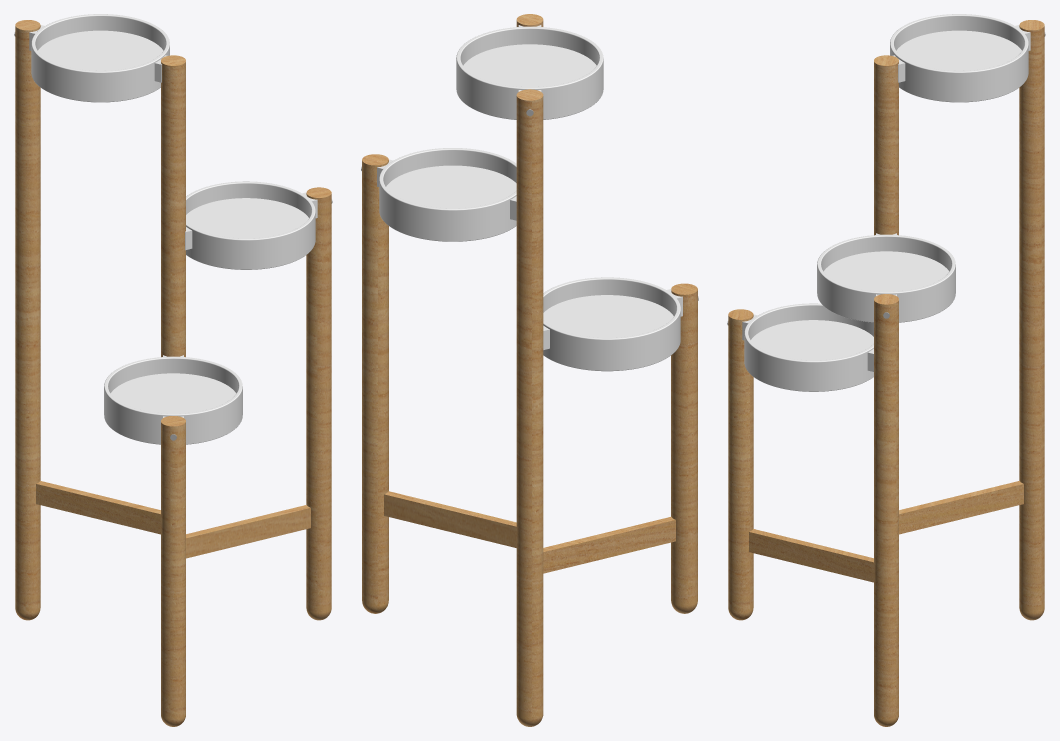
File: SATSUMAS_Planter_H_78CM.obj
3 renders of one model, left to right at view 1: azimuth 30°, elevation 25°; view 2: azimuth 150°, elevation 25°; view 3: azimuth 270°, elevation 25°, orthographic. The views are drawn at different scales.
Parts seen in each view (by area): view 1: Revit_008539_17, Revit_026185_05, Revit_026185_02, Revit_026185_08; view 2: Revit_008539_17, Revit_026185_08, Revit_026185_02, Revit_026185_05; view 3: Revit_008539_17, Revit_026185_05, Revit_026185_02, Revit_026185_08.
Boxes of the visible parts, x1,y1,x2,y2 form: Revit_008539_17: (15, 20, 331, 726); Revit_026185_05: (31, 14, 169, 102); Revit_026185_02: (186, 181, 315, 269); Revit_026185_08: (104, 356, 242, 444); Revit_008539_17: (362, 14, 697, 726); Revit_026185_08: (543, 277, 680, 371); Revit_026185_02: (379, 148, 516, 241); Revit_026185_05: (456, 26, 603, 119); Revit_008539_17: (728, 20, 1044, 726); Revit_026185_05: (890, 14, 1028, 102); Revit_026185_02: (817, 234, 955, 322); Revit_026185_08: (744, 303, 873, 391).
Bounding box in the file's own units: 349 × 780 × 378.
